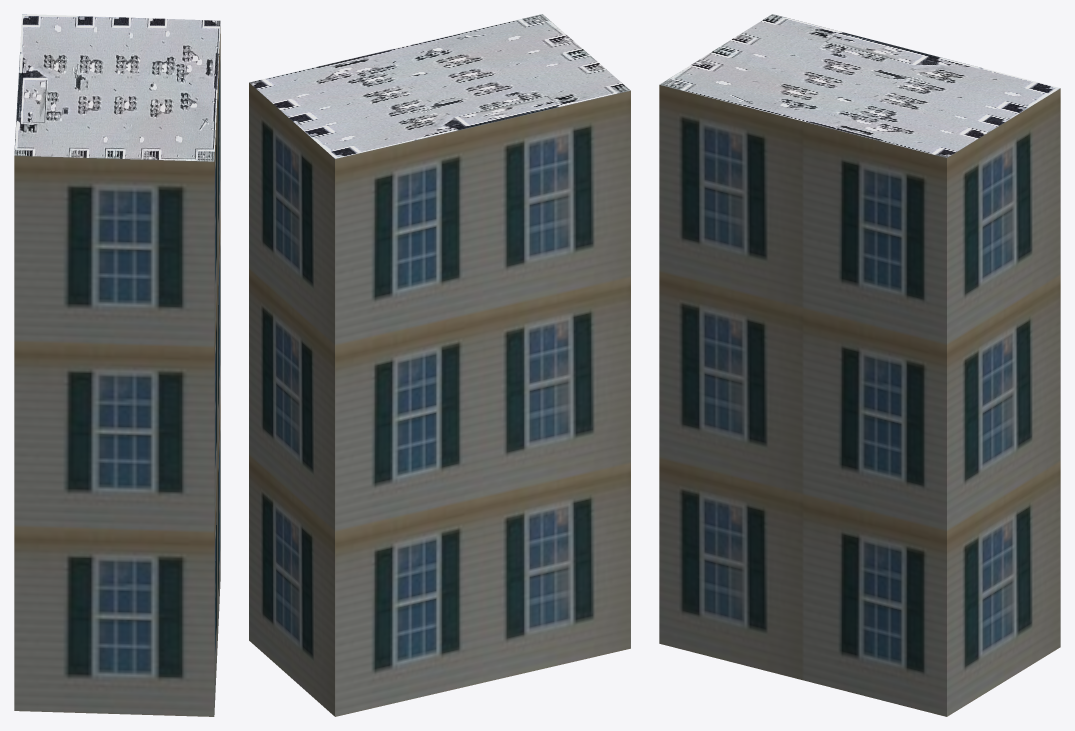
The model's file is ResTex__606.fbx.
3 views of the same model, side by side, from view 1: azimuth 30°, elevation 25°; view 2: azimuth 150°, elevation 25°; view 3: azimuth 270°, elevation 25° (orthographic).
Visible parts, largest first — view 1: CityEngineMaterial_7_m, CityEngineMaterial_8_m; view 2: CityEngineMaterial_7_m, CityEngineMaterial_8_m; view 3: CityEngineMaterial_7_m, CityEngineMaterial_8_m.
Part boxes in pixels (x1,y1,x2,y2): CityEngineMaterial_7_m: [14, 26, 220, 716]; CityEngineMaterial_8_m: [14, 14, 220, 161]; CityEngineMaterial_7_m: [249, 83, 630, 716]; CityEngineMaterial_8_m: [249, 14, 630, 158]; CityEngineMaterial_7_m: [659, 85, 1060, 716]; CityEngineMaterial_8_m: [659, 14, 1060, 157].
Size of the model in its own units: 4.97 by 9 by 5.86.
Materials: 2 (2 with a texture image).
